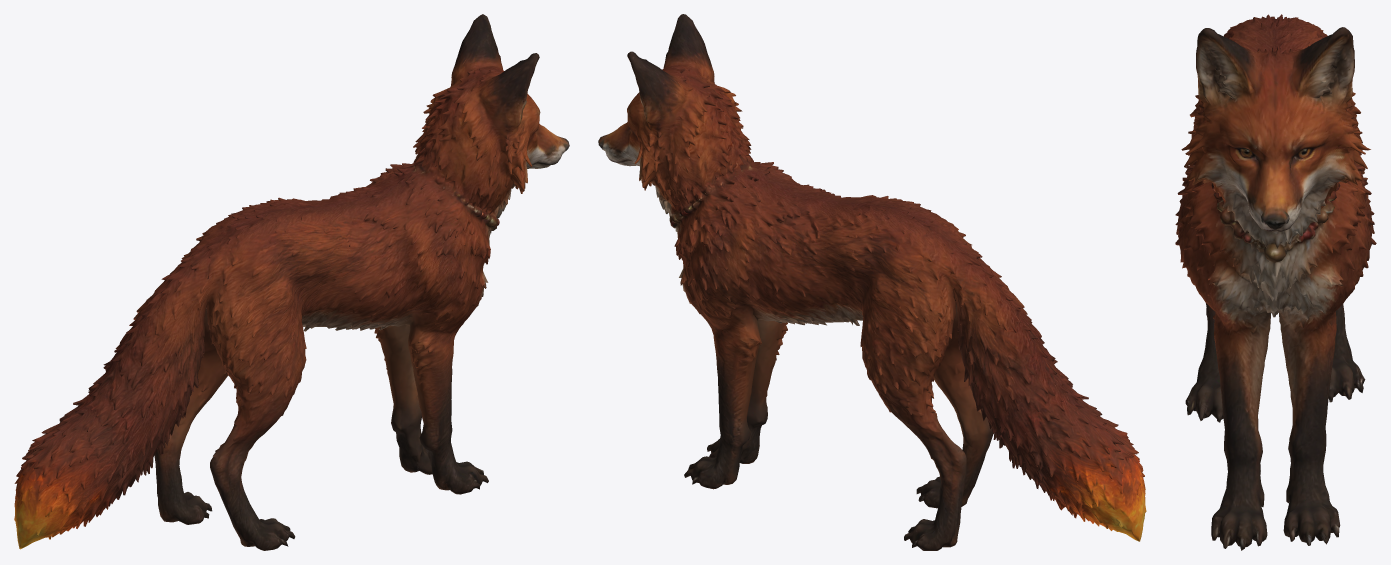
File: fox-tripo.glb
3 views of the same model, side by side, from view 1: azimuth 30°, elevation 25°; view 2: azimuth 150°, elevation 25°; view 3: azimuth 270°, elevation 25° (orthographic). The views are drawn at different scales.
Visible parts, largest first — view 1: tripo_node_12f56492-6e88-4721-970f-413a1cf90ca8; view 2: tripo_node_12f56492-6e88-4721-970f-413a1cf90ca8; view 3: tripo_node_12f56492-6e88-4721-970f-413a1cf90ca8.
Part boxes in pixels (bbox=[...]): tripo_node_12f56492-6e88-4721-970f-413a1cf90ca8: bbox=[14, 14, 569, 550]; tripo_node_12f56492-6e88-4721-970f-413a1cf90ca8: bbox=[598, 14, 1146, 550]; tripo_node_12f56492-6e88-4721-970f-413a1cf90ca8: bbox=[1175, 14, 1376, 550].
Size of the model in its own units: 1 by 0.7424 by 0.2463.
Materials: 1 (1 with a texture image).
